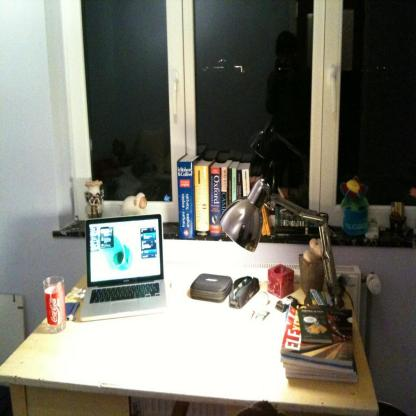board: (81, 213, 169, 323)
